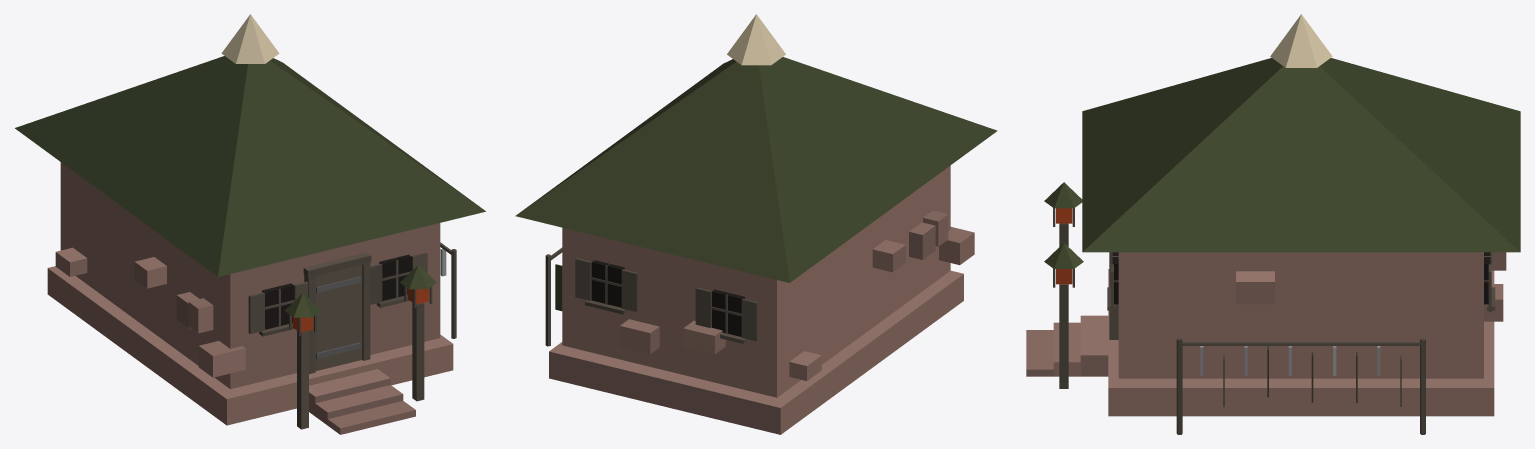
Rendered from walk_reef_row.glb.
3 renders of one model, left to right at view 1: azimuth 30°, elevation 25°; view 2: azimuth 150°, elevation 25°; view 3: azimuth 270°, elevation 25°, orthographic. The views are drawn at different scales.
Parts seen in each view (by area): view 1: walk_reef_row, walk_reef_row_roof; view 2: walk_reef_row, walk_reef_row_roof; view 3: walk_reef_row_roof, walk_reef_row.
Part boxes in pixels (x1=…): walk_reef_row: x1=47, y1=162, x2=456, y2=434; walk_reef_row_roof: x1=15, y1=14, x2=485, y2=276; walk_reef_row: x1=545, y1=165, x2=974, y2=434; walk_reef_row_roof: x1=515, y1=14, x2=997, y2=282; walk_reef_row_roof: x1=1082, y1=14, x2=1520, y2=252; walk_reef_row: x1=1026, y1=182, x2=1506, y2=434.
Size of what is drawn, in the model's own units: 6.78 by 7.25 by 9.47.
2 materials, 2 textured.
